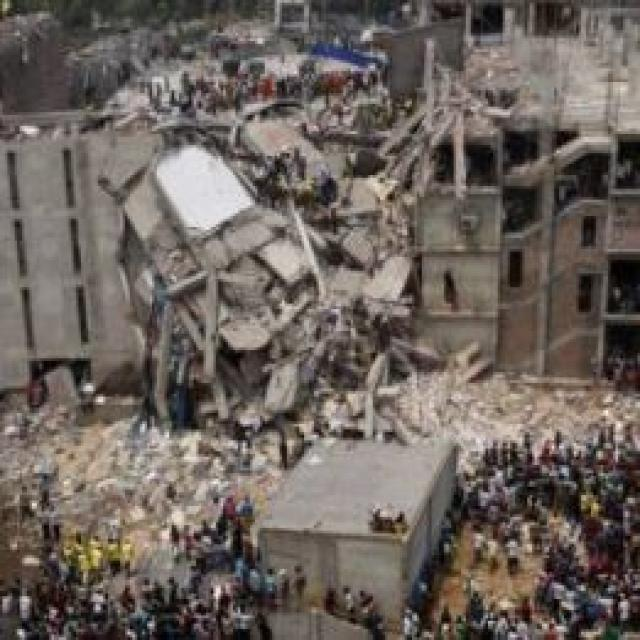collapsed_building: (110, 110, 476, 418)
